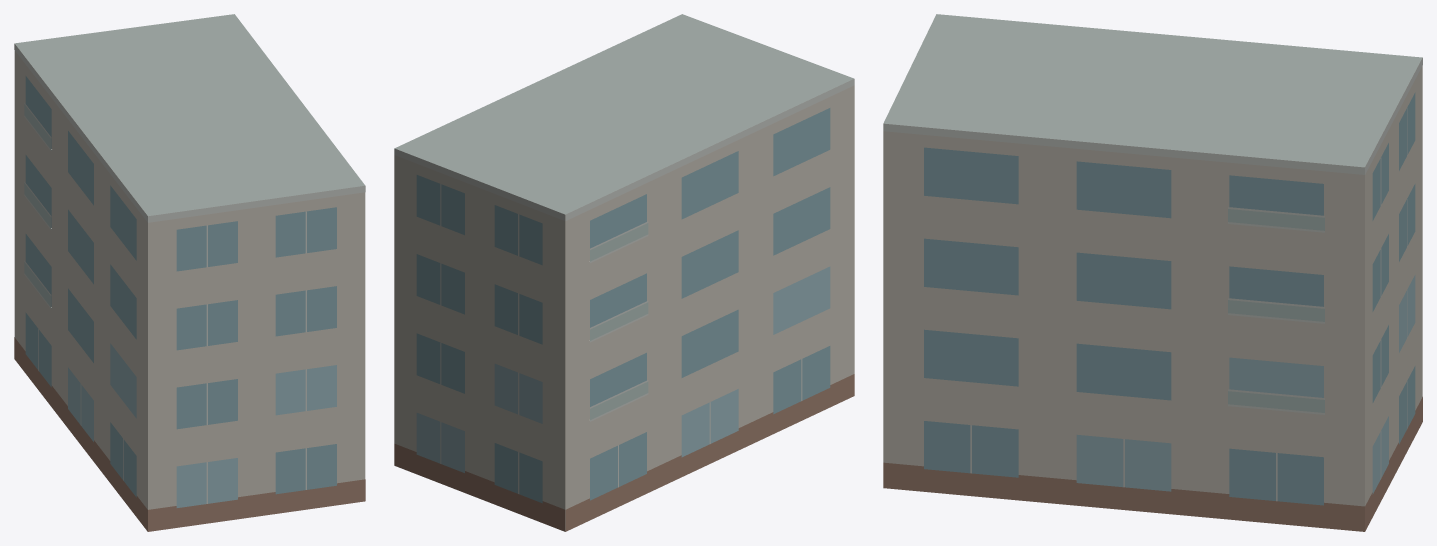
Rendered from survey-upis-32826578.glb.
3 renders of one model, left to right at view 1: azimuth 30°, elevation 25°; view 2: azimuth 150°, elevation 25°; view 3: azimuth 270°, elevation 25°, orthographic. The views are drawn at different scales.
Parts seen in each view (by area): view 1: survey-upis-32826578.tmp; view 2: survey-upis-32826578.tmp; view 3: survey-upis-32826578.tmp.
Part boxes in pixels (x1,y1,x2,y2): survey-upis-32826578.tmp: (14,14,365,531); survey-upis-32826578.tmp: (394,14,854,531); survey-upis-32826578.tmp: (883,14,1422,531).
Size of the model in its own units: 10.57 by 11.7 by 15.71.
